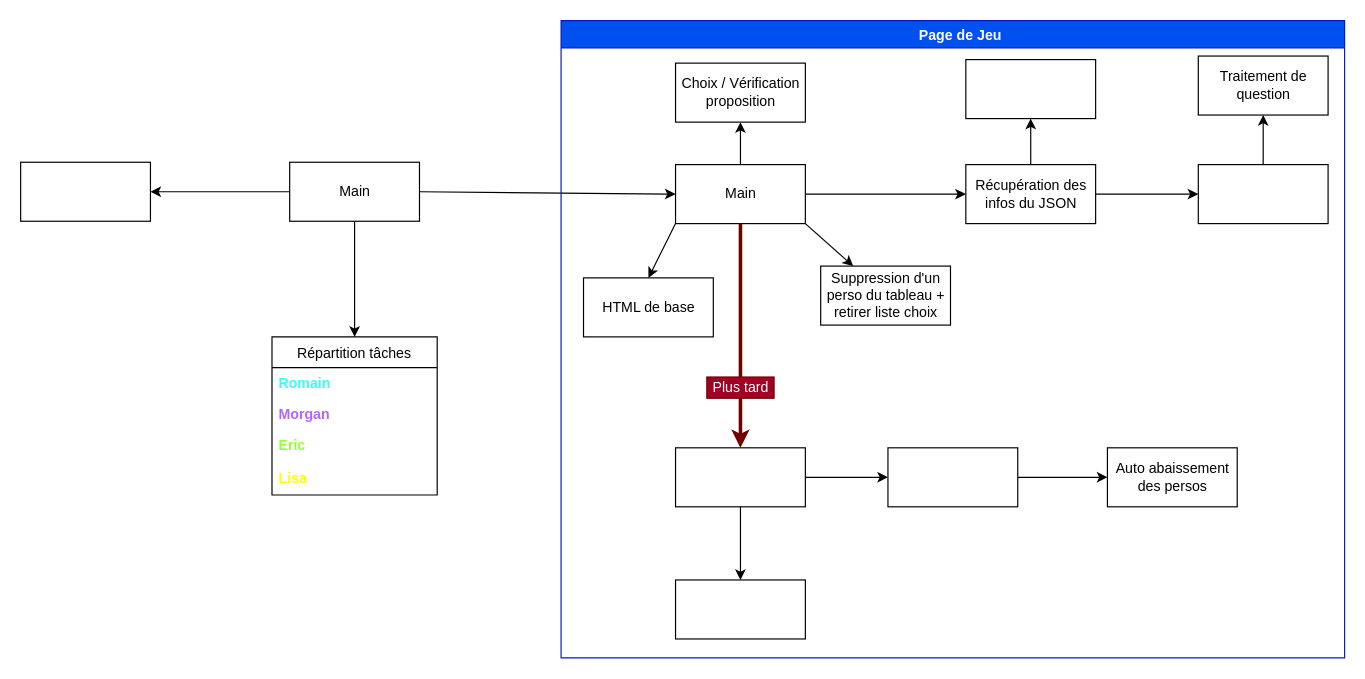
The diagram is 1365 pixels wide and 679 high, and some of its shapes have lost their labels. The centre of each missing label's shape, as x and y in pixels:
Construction des questions (langage naturel): the point at 1262,193
Génrétateur: the point at 84,191
Génération grille de jeu en fonction du fichier JSON: the point at 1030,88
Passage en mode facile: the point at 739,477
Passer à 5 essais (- le nombre déjà utilisé): the point at 739,609
Savoir combien de persos éliminés: the point at 952,477
